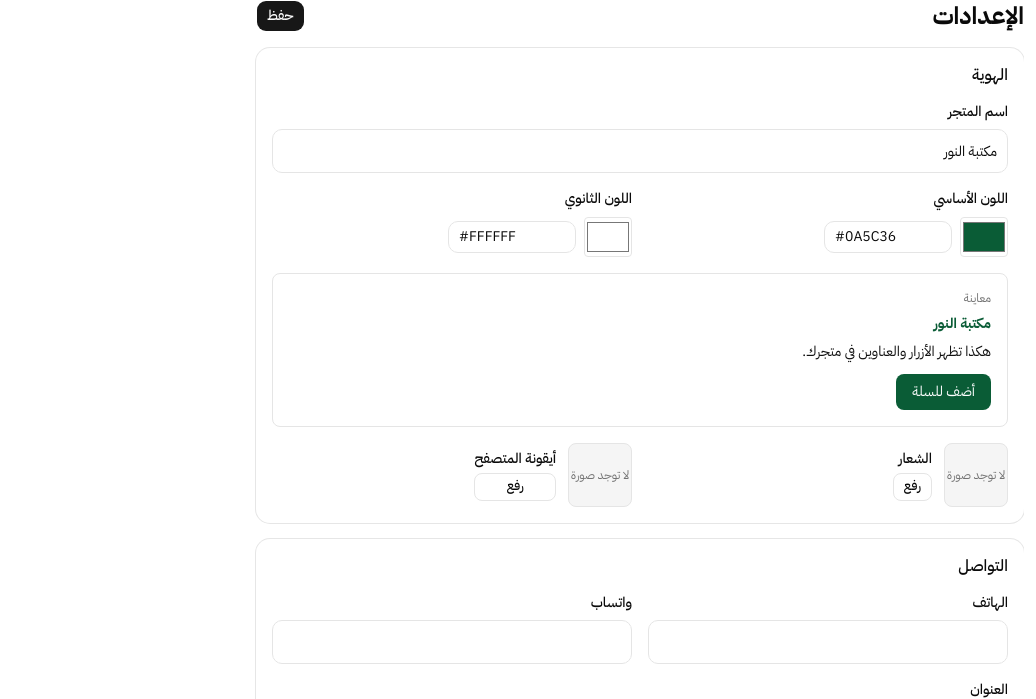
Test case: invitation message › shows the backend's error under the box
What coordinates should you click on to do the following:
click the button "حفظ"
I would click on:
 (280, 16)
Its box is [256,0,305,32].
(page scrolled)
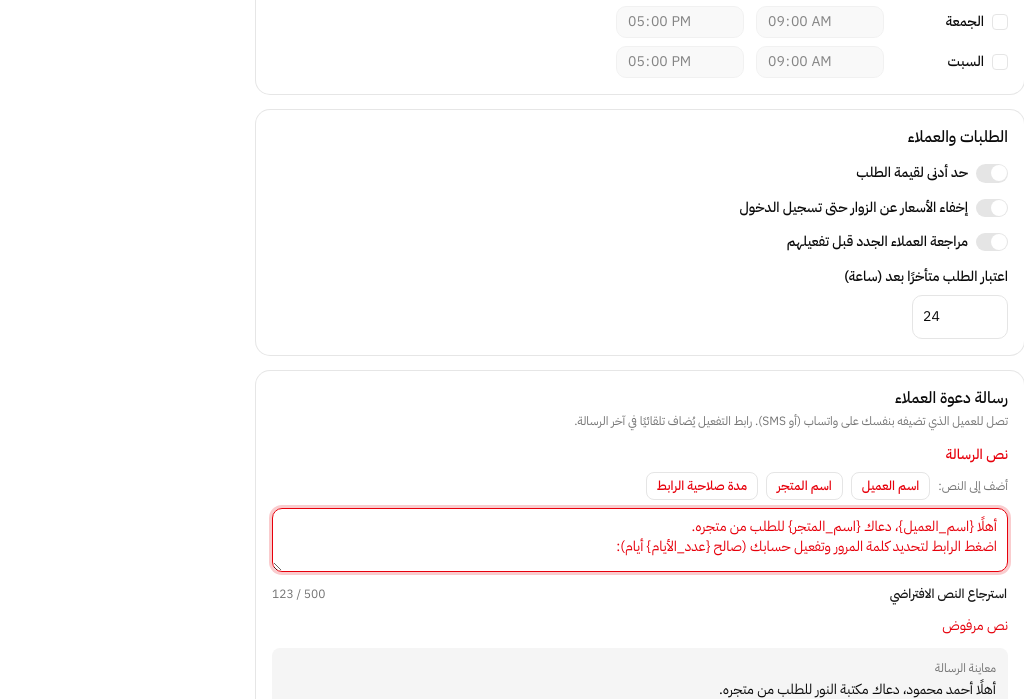
expect the text "نص مرفوض" is shown: met, box [942,615,1008,636]
